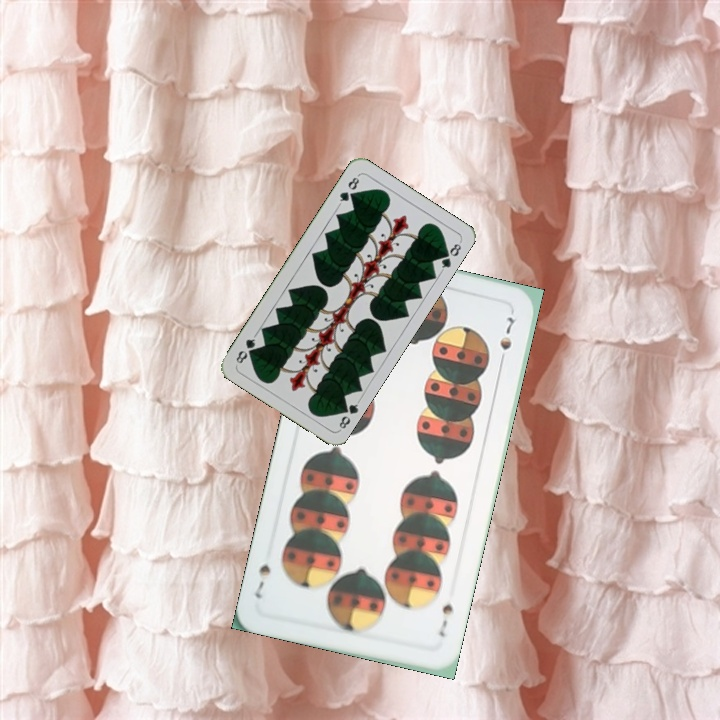G8: (334, 396, 362, 433), (335, 171, 362, 208)
S7: (435, 600, 456, 640)
